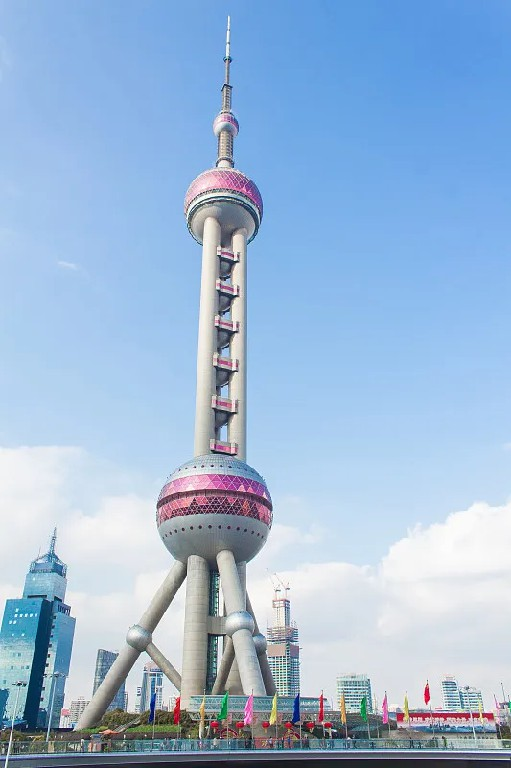Oriental: (73, 18, 274, 731)
